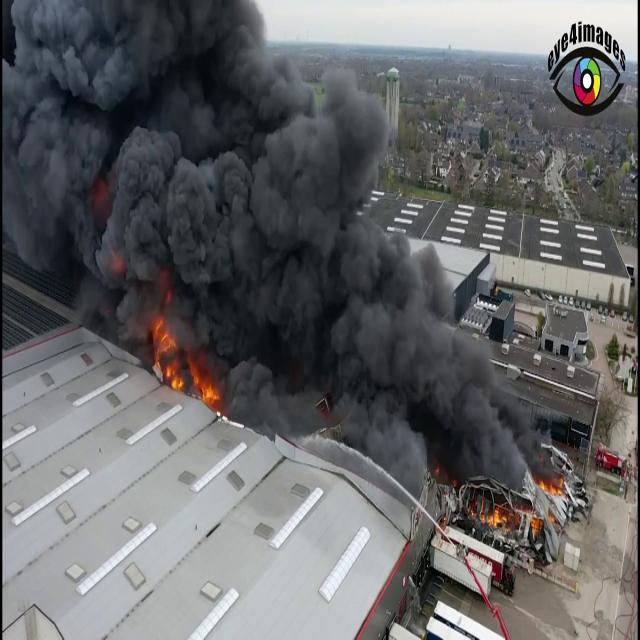Fire: (147, 302, 220, 404), (481, 498, 542, 534), (538, 473, 568, 506)
Smoke: (6, 1, 534, 475)
